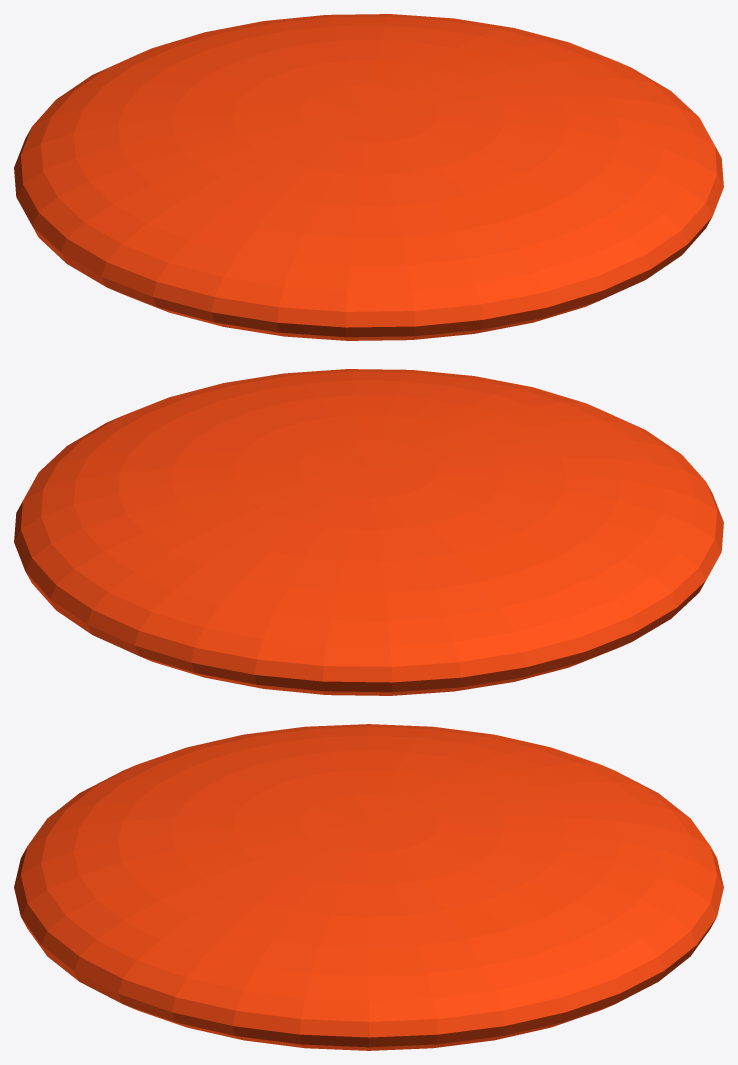
File: mercimek.fbx
3 views of the same model, one above another, from view 1: azimuth 30°, elevation 25°; view 2: azimuth 150°, elevation 25°; view 3: azimuth 270°, elevation 25° (orthographic).
Parts seen in each view (by area): view 1: mercimek; view 2: mercimek; view 3: mercimek.
Part boxes in pixels (bbox=[...]): mercimek: bbox=[14, 14, 723, 340]; mercimek: bbox=[14, 369, 723, 695]; mercimek: bbox=[14, 724, 723, 1050].
Bounding box in the file's own units: 48.1 × 9.7 × 48.1.
